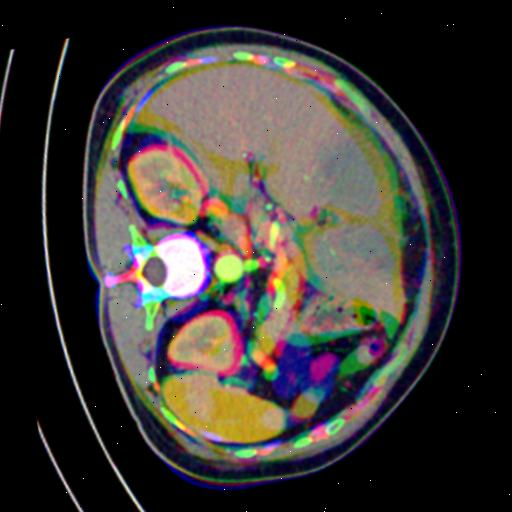Abscess: (327, 137, 401, 270)
